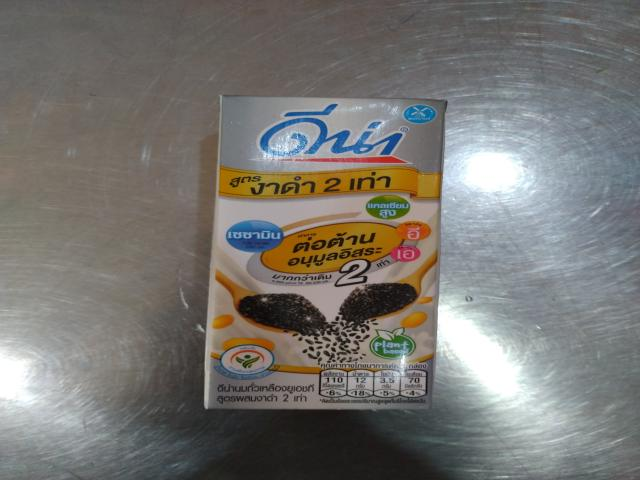drink_box: (184, 86, 488, 430)
